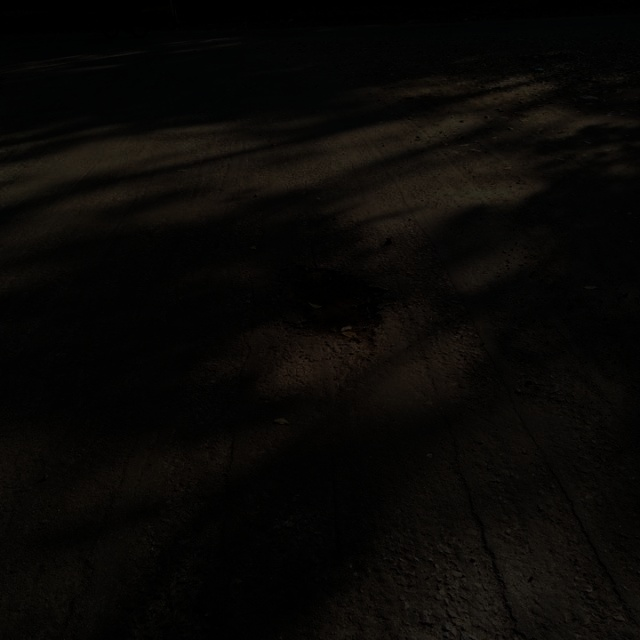Pothole: (272, 260, 396, 352)
